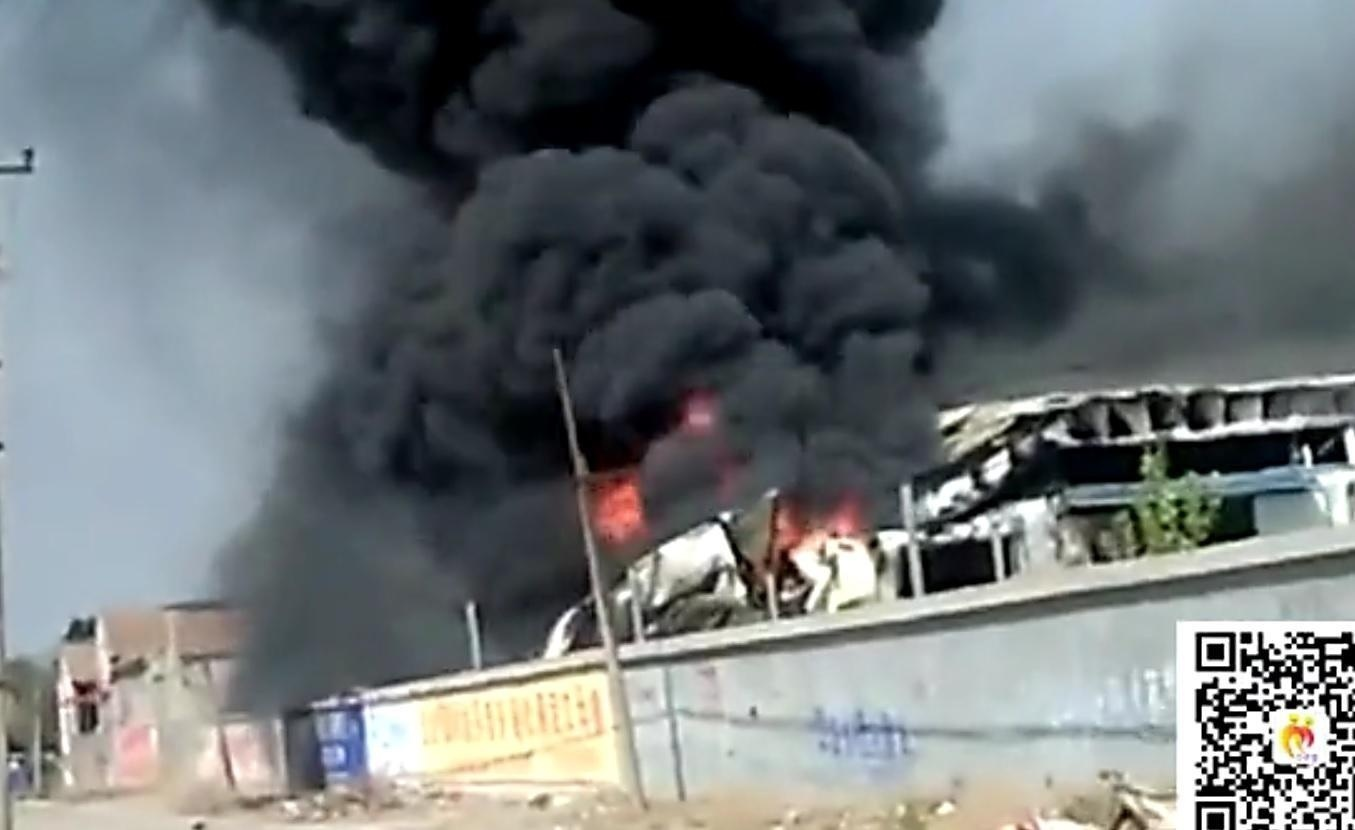fire: (777, 499, 862, 548), (596, 476, 648, 541)
